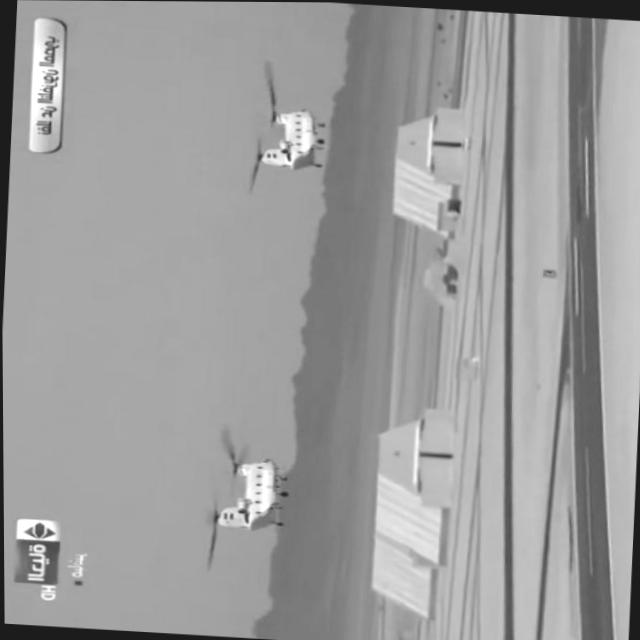helikopter: (183, 426, 309, 566), (231, 73, 355, 210)
